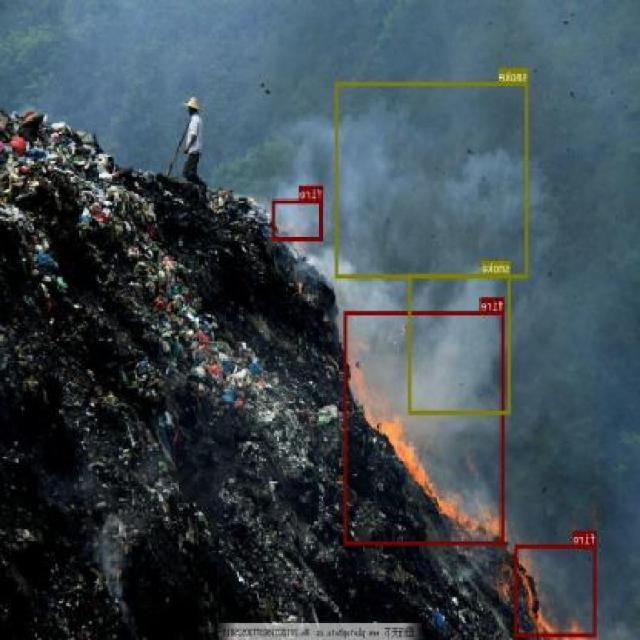fire: (344, 310, 504, 544), (515, 544, 597, 636), (272, 199, 323, 239)
smoke: (336, 81, 529, 277), (409, 273, 511, 415)
